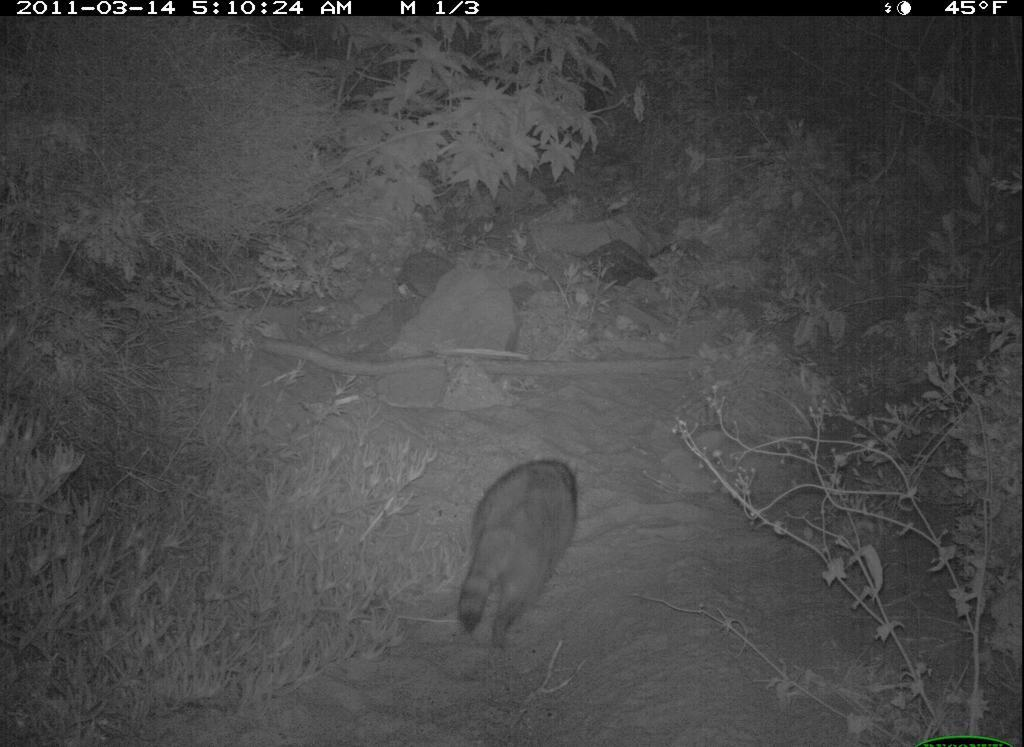raccoon: (455, 454, 585, 652)
